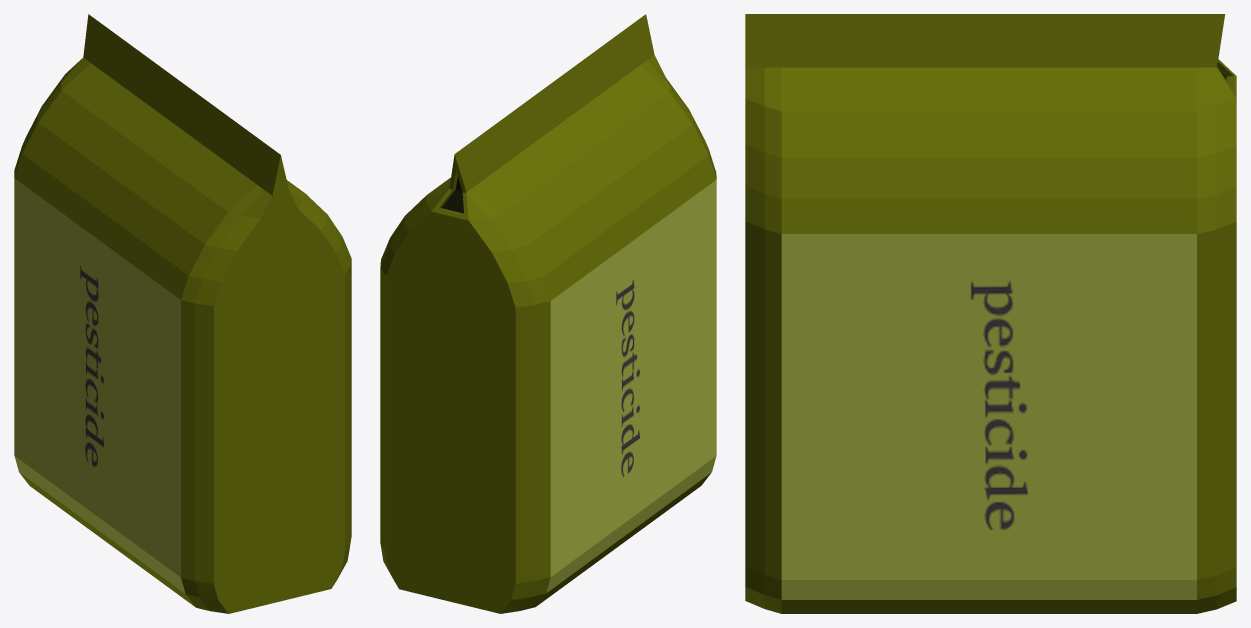
Rendered from pesticide.fbx.
3 views of the same model, side by side, from view 1: azimuth 30°, elevation 25°; view 2: azimuth 150°, elevation 25°; view 3: azimuth 270°, elevation 25° (orthographic). The views are drawn at different scales.
Parts seen in each view (by area): view 1: Cube; view 2: Cube; view 3: Cube.
Part boxes in pixels (left/top/right/bottom): Cube: left=14, top=14, right=351, bottom=613; Cube: left=380, top=14, right=716, bottom=613; Cube: left=745, top=14, right=1236, bottom=613.
Bounding box in the file's own units: 0.3 × 0.75 × 0.6.
